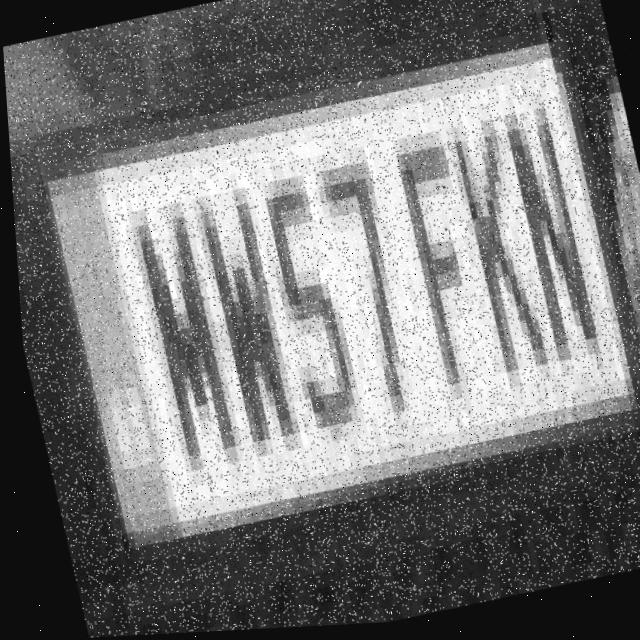LicensePlate: (30, 42, 640, 544)
